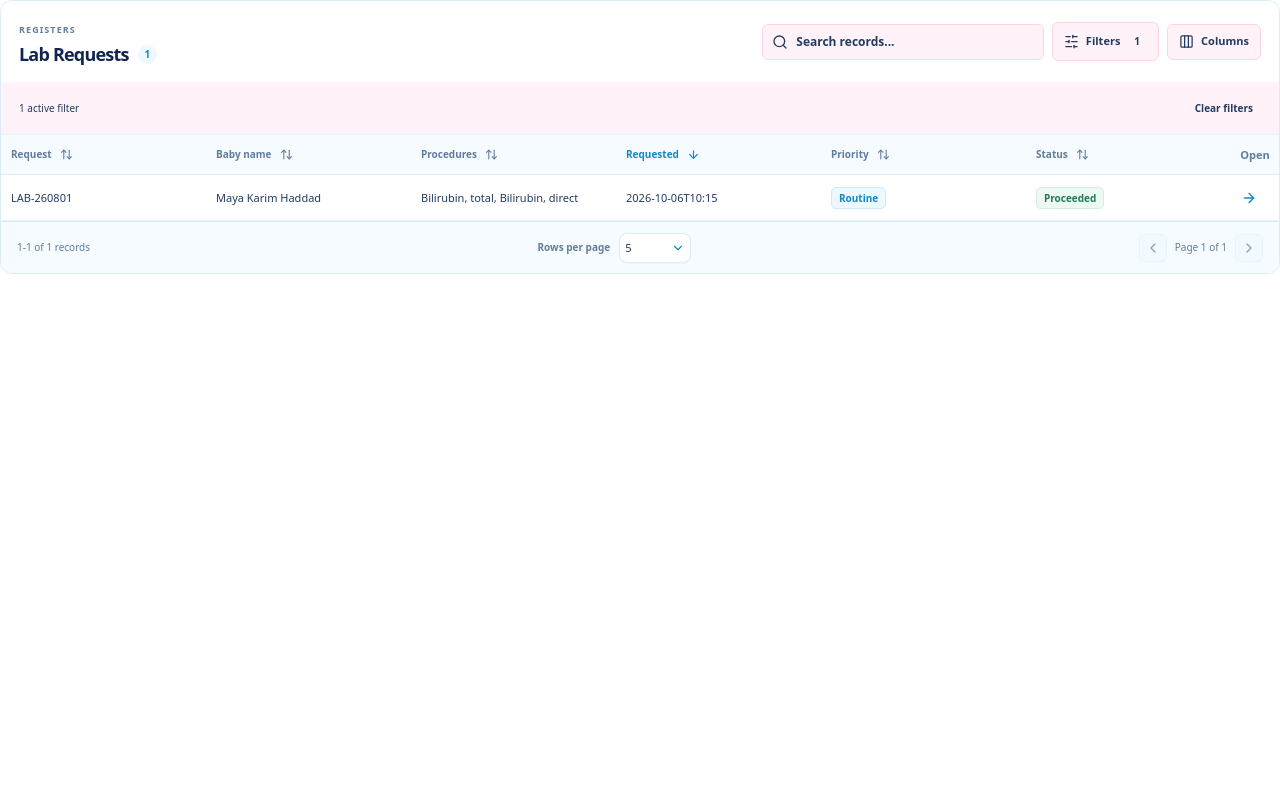
Scenario: opens proceeded request status by mouse and available results by keyboard
The image size is (1280, 800).
Click the row named "Open request LAB-260801": point(640, 198) 1,175 -> 1279,221
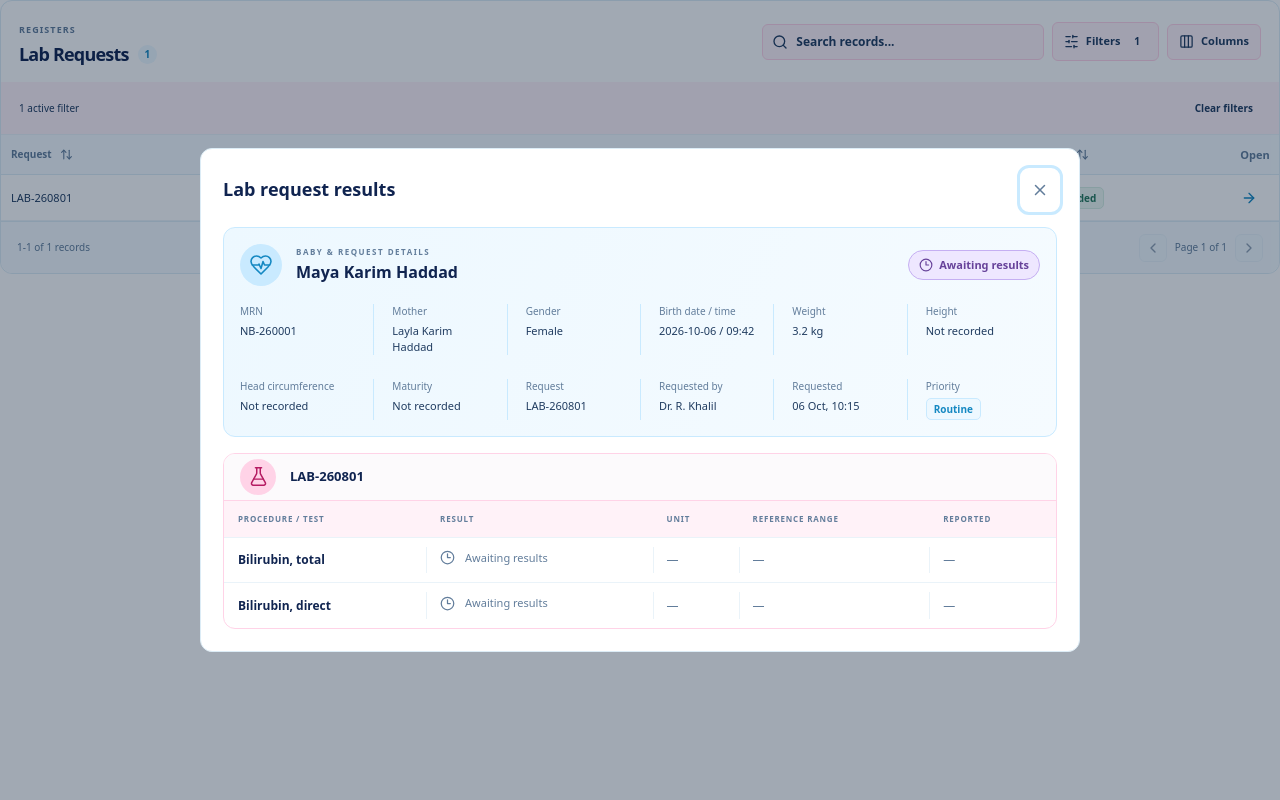
Expected: the dialog "Lab request results" shows "Awaiting results", 939,257 -> 1029,272
Click the button named "Close panel": point(1040, 190) 1023,171 -> 1057,209
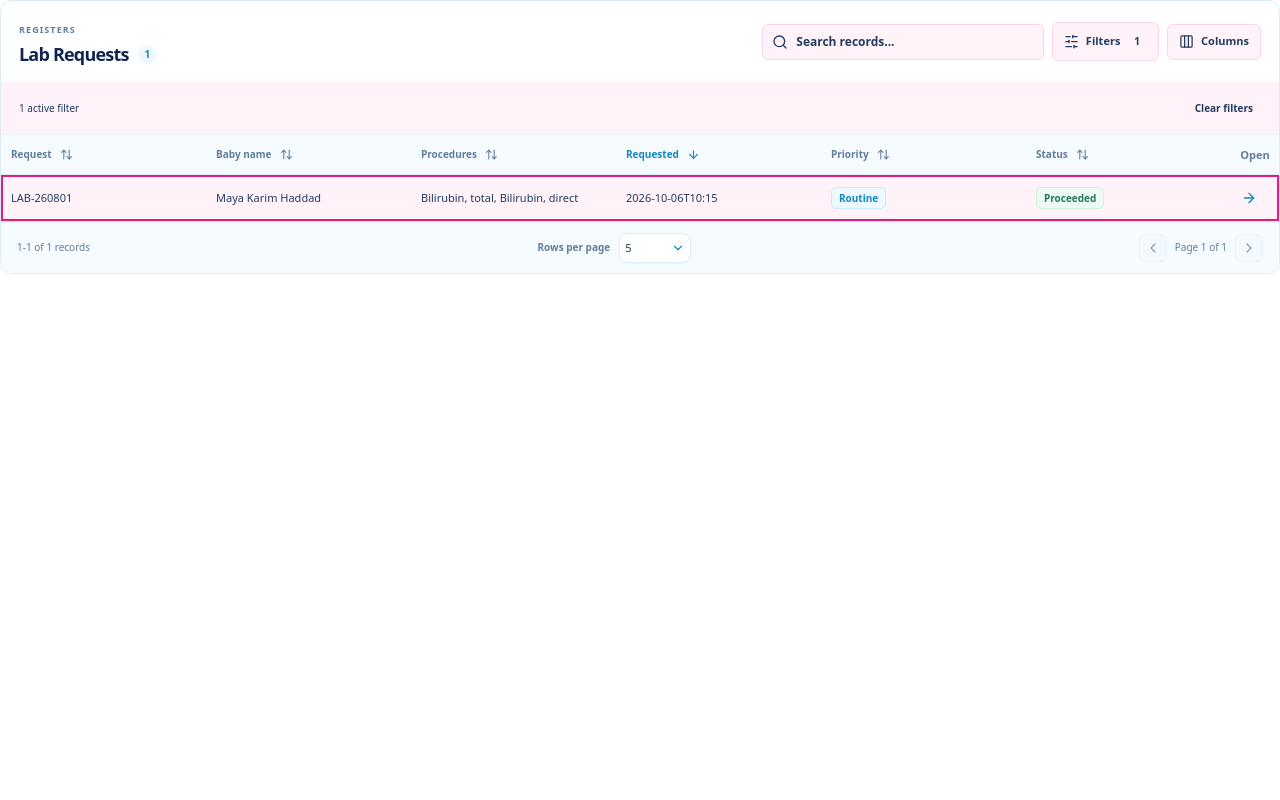
Press Enter
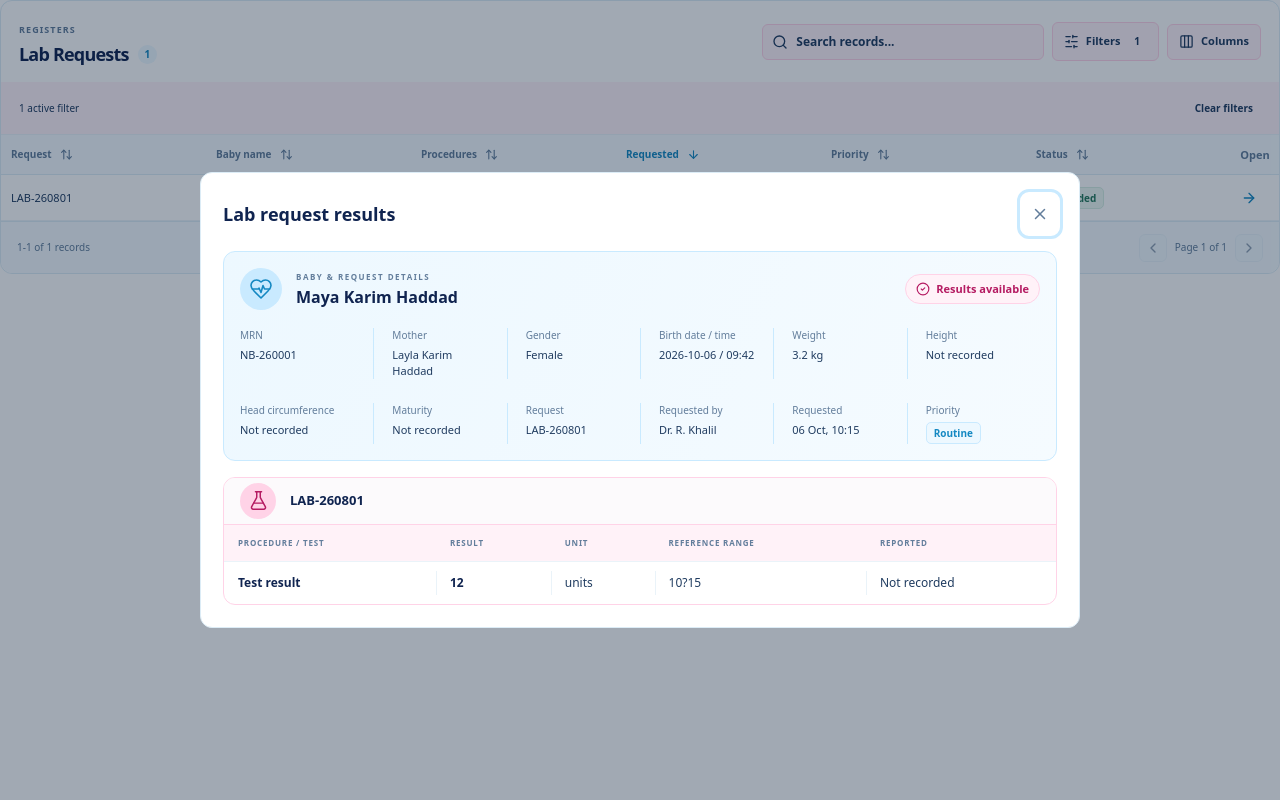
Expected: the dialog "Lab request results" shows "Maya Karim Haddad", 296,286 -> 458,308
Expected: the dialog "Lab request results" shows "NB-260001", 240,347 -> 297,362
Expected: the dialog "Lab request results" shows "3.2 kg", 200,172 -> 1080,628
